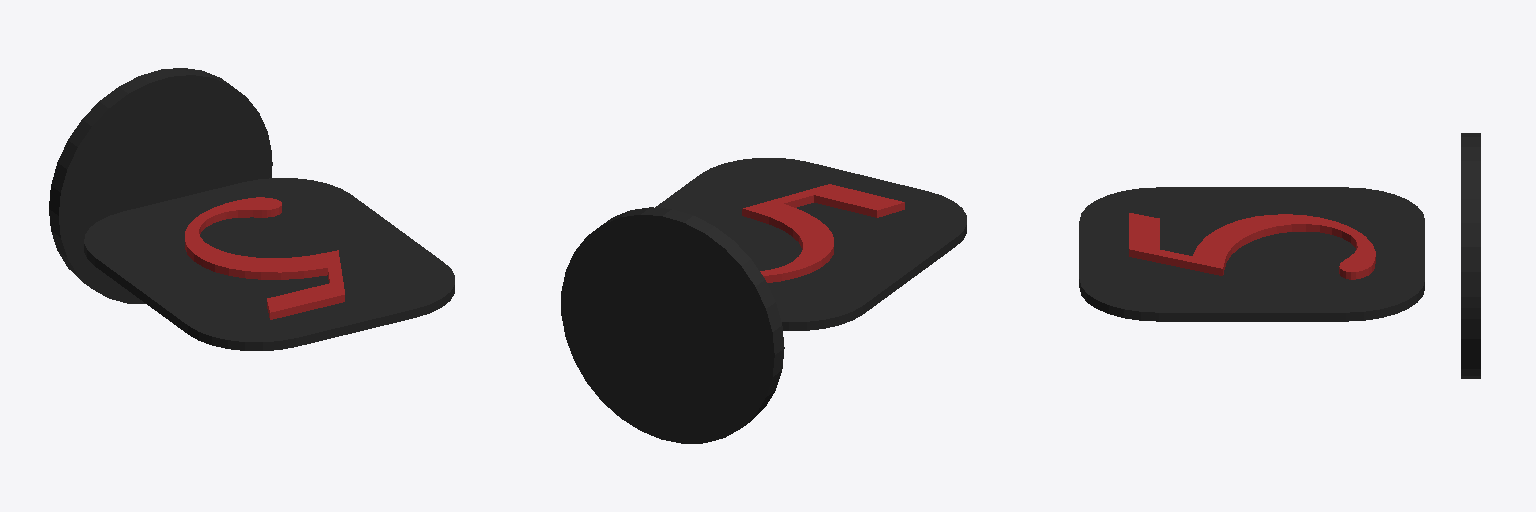
3 views of the same model, side by side, from view 1: azimuth 30°, elevation 25°; view 2: azimuth 150°, elevation 25°; view 3: azimuth 270°, elevation 25° (orthographic).
Visible parts, largest first — view 1: ART_GS[number redacted]_A; view 2: ART_GS[number redacted]_A; view 3: ART_GS[number redacted]_A.
Boxes of the visible parts, <box> form: ART_GS[number redacted]_A: <box>49,68,454,350</box>; ART_GS[number redacted]_A: <box>561,158,966,443</box>; ART_GS[number redacted]_A: <box>1079,133,1480,378</box>.
Bounding box in the file's own units: 0.45 × 0.3745 × 0.6088.